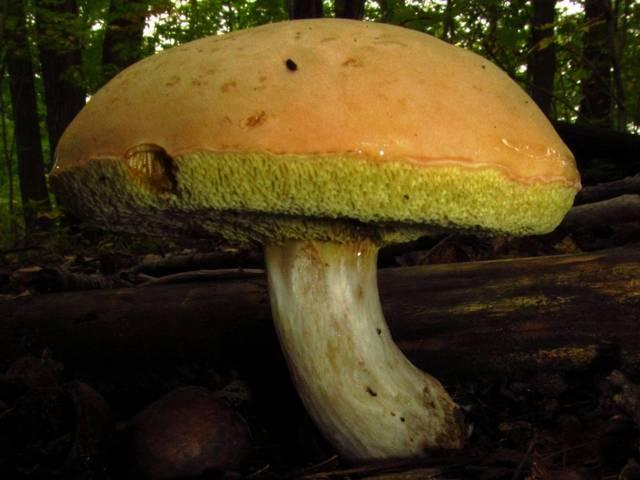edible_mushroom: (46, 15, 582, 465)
